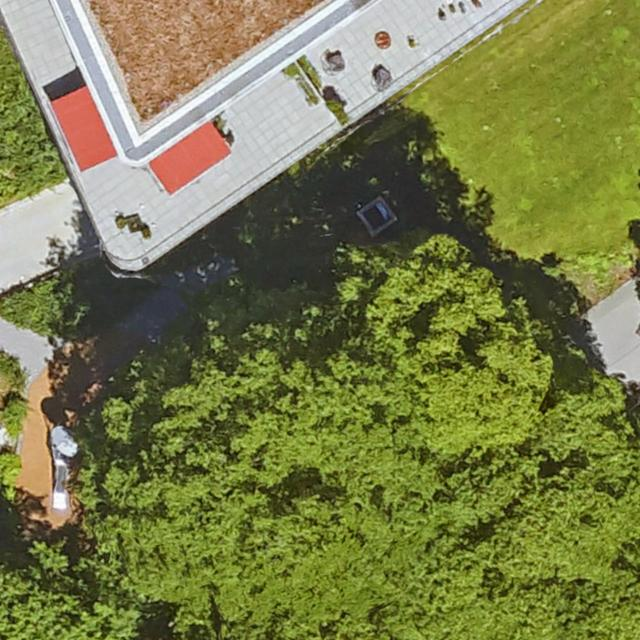tree: (100, 374, 326, 577), (349, 248, 537, 442), (330, 446, 500, 633), (503, 494, 624, 588), (543, 371, 631, 456), (0, 575, 105, 640)
